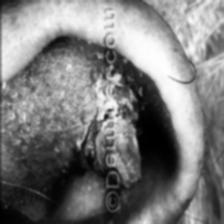Potentially Malignant Skin Tumors: (114, 96, 146, 192)
